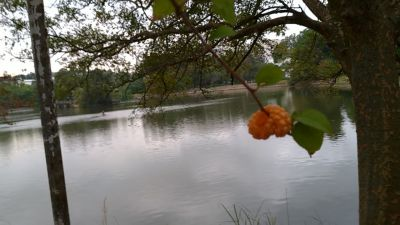eggs: (247, 102, 292, 142)
